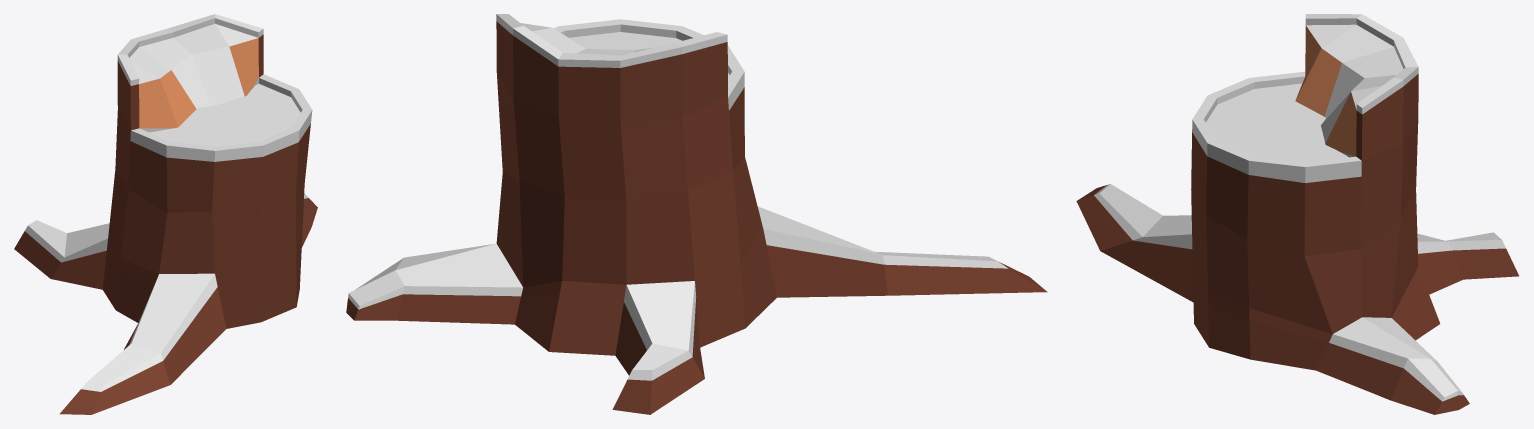
Rendered from pine_trunk_type_4_extra_LOD0.fbx.
3 views of the same model, side by side, from view 1: azimuth 30°, elevation 25°; view 2: azimuth 150°, elevation 25°; view 3: azimuth 270°, elevation 25° (orthographic). The views are drawn at different scales.
Visible parts, largest first — view 1: Cylinder.003; view 2: Cylinder.003; view 3: Cylinder.003.
Boxes of the visible parts, box(x1,y1,x2,y2) form: Cylinder.003: box(14, 14, 317, 414); Cylinder.003: box(346, 14, 1047, 414); Cylinder.003: box(1076, 14, 1518, 414).
Size of the model in its own units: 480 by 265 by 392.
